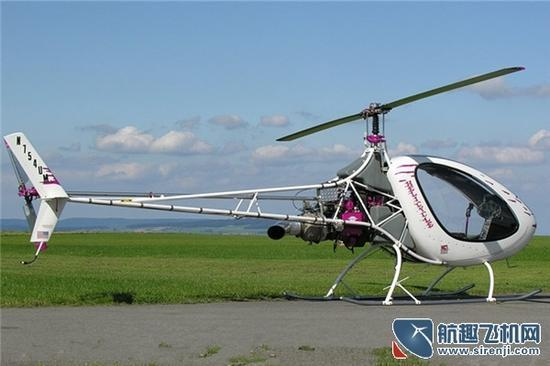airplane: (3, 61, 541, 323)
